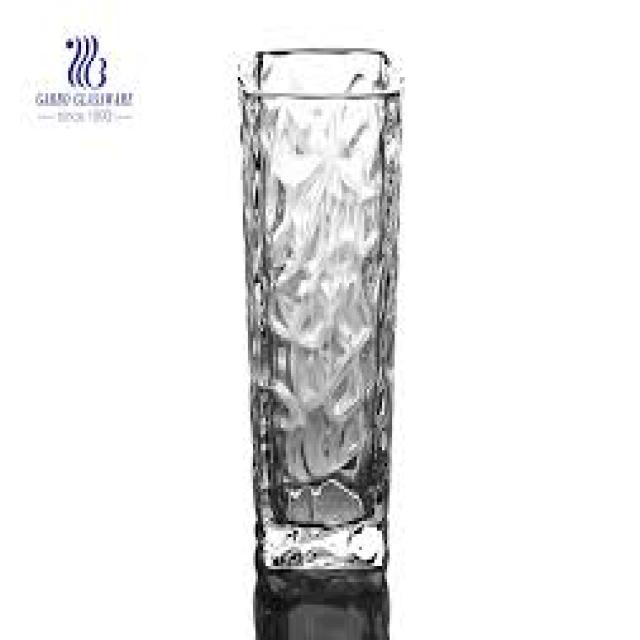glass: (233, 45, 400, 637)
